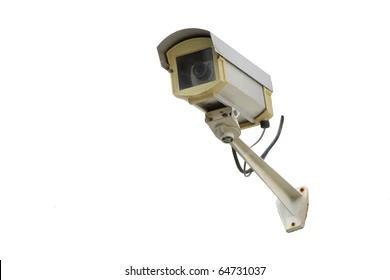------------------------------: (154, 23, 277, 133)
